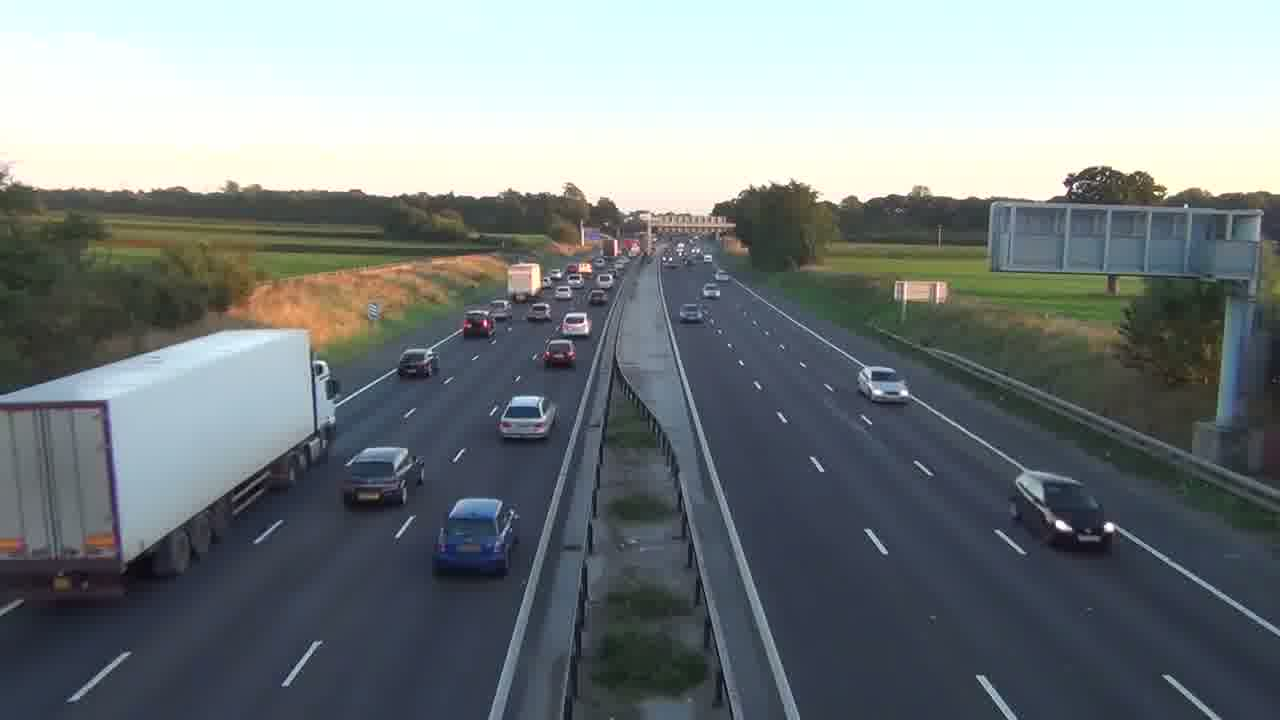car: (1010, 468, 1119, 552), (432, 496, 520, 576), (339, 445, 424, 506), (496, 394, 559, 441), (856, 365, 910, 406), (397, 347, 439, 379), (560, 311, 592, 337), (527, 301, 552, 322), (702, 282, 721, 298)
truck: (0, 327, 338, 604)
